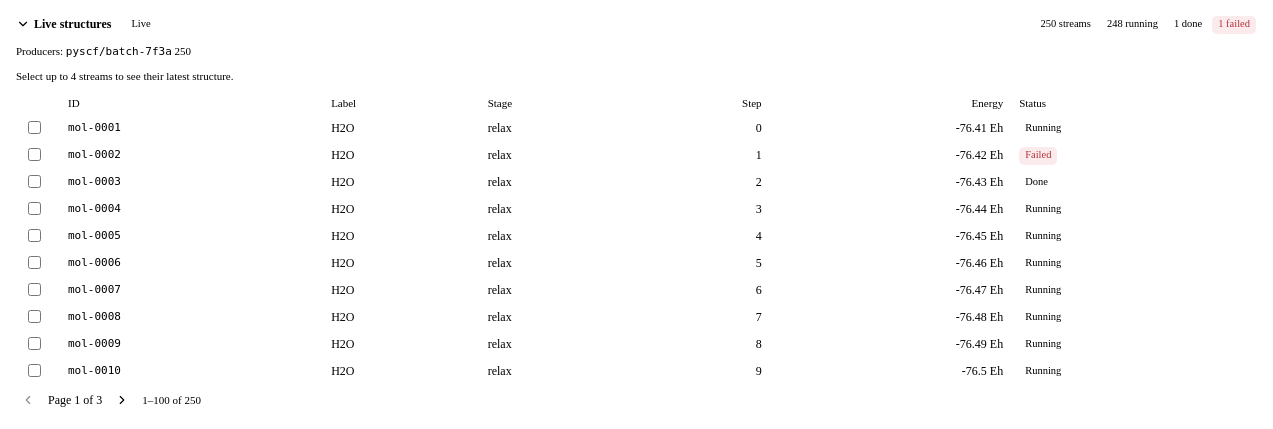
Test: LiveStructuresPanel › pages locally when the host does not page
Click the button named "Next page" at (122, 400), box [110,388,134,412]
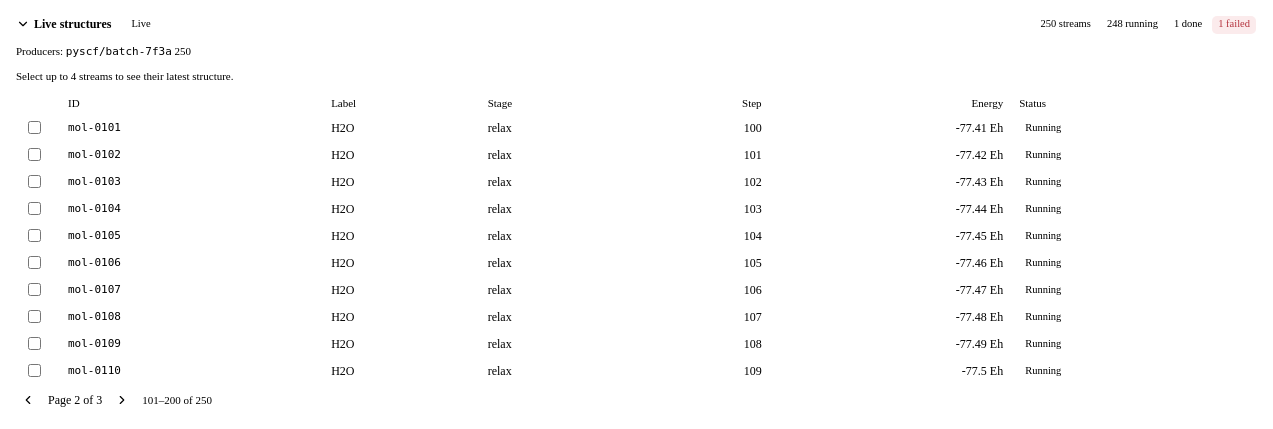
Click the button named "Next page" at (122, 400), box [110,388,134,412]
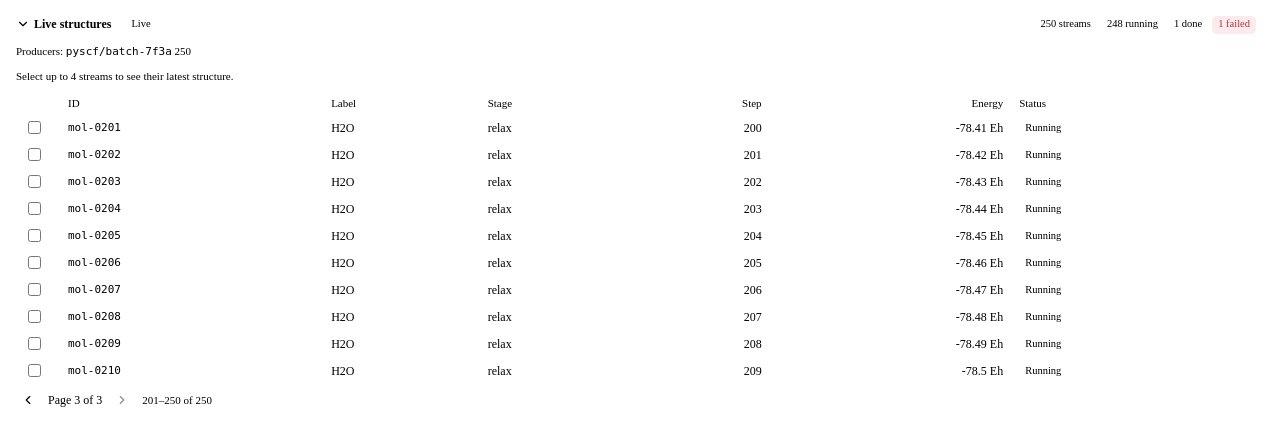
Now the cell "mol-0201" is shown, box [60,114,323,142]
Now the button named "Next page" is disabled, box [110,388,134,412]
